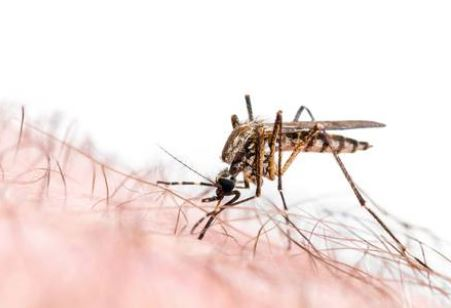dengue_mosquito: (156, 94, 391, 241)
